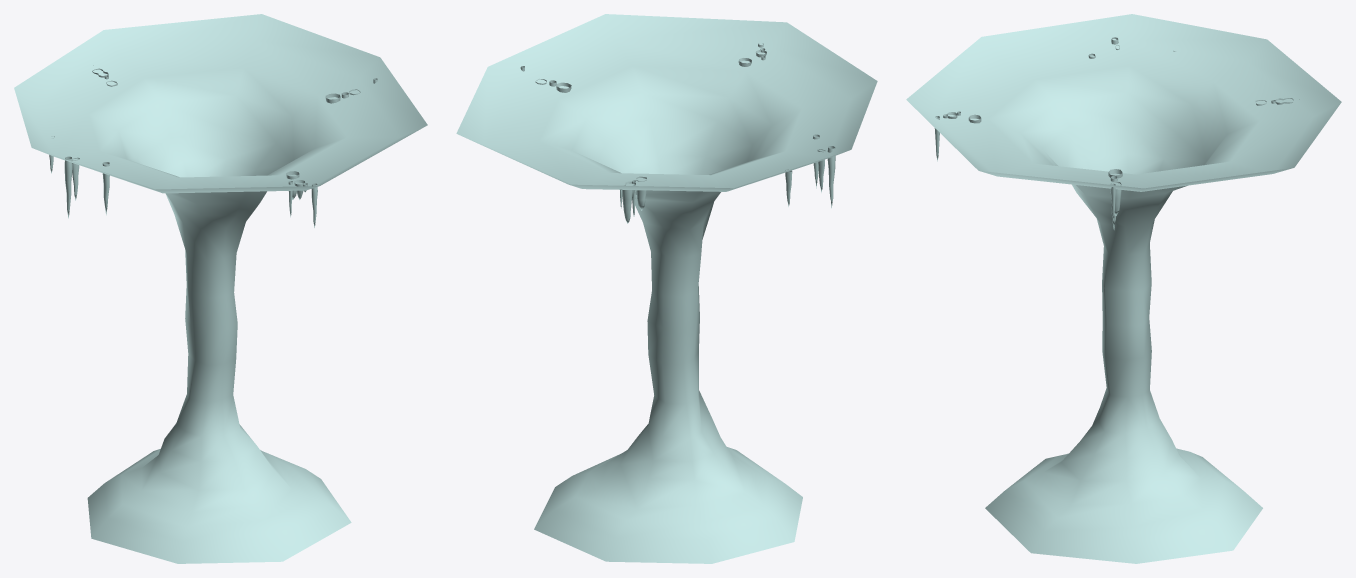
Rendered from env_ice_pillar_thin.fbx.
3 renders of one model, left to right at view 1: azimuth 30°, elevation 25°; view 2: azimuth 150°, elevation 25°; view 3: azimuth 270°, elevation 25°, orthographic.
Parts seen in each view (by area): view 1: env_ice_pillar_thin_geo; view 2: env_ice_pillar_thin_geo; view 3: env_ice_pillar_thin_geo.
Part boxes in pixels (x1,y1,x2,y2): env_ice_pillar_thin_geo: (14,14,427,563); env_ice_pillar_thin_geo: (456,14,877,563); env_ice_pillar_thin_geo: (906,14,1341,563).
Bounding box in the file's own units: 1036 × 1131 × 1095.
